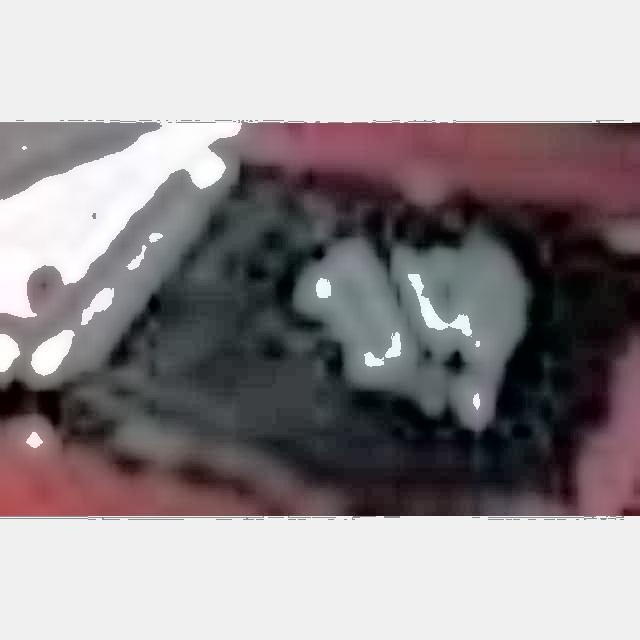pakai: (276, 192, 522, 448)
